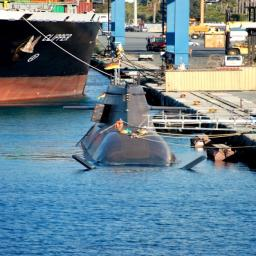submarine: (66, 78, 207, 174)
